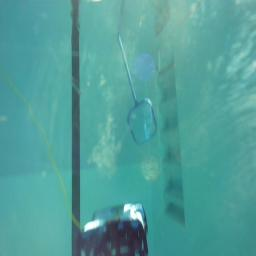Side: (79, 205, 149, 256)
